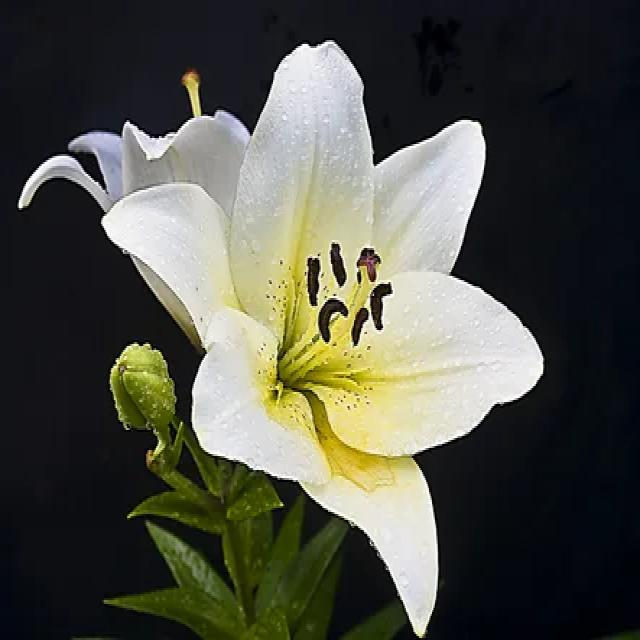lily: (95, 29, 554, 640)
